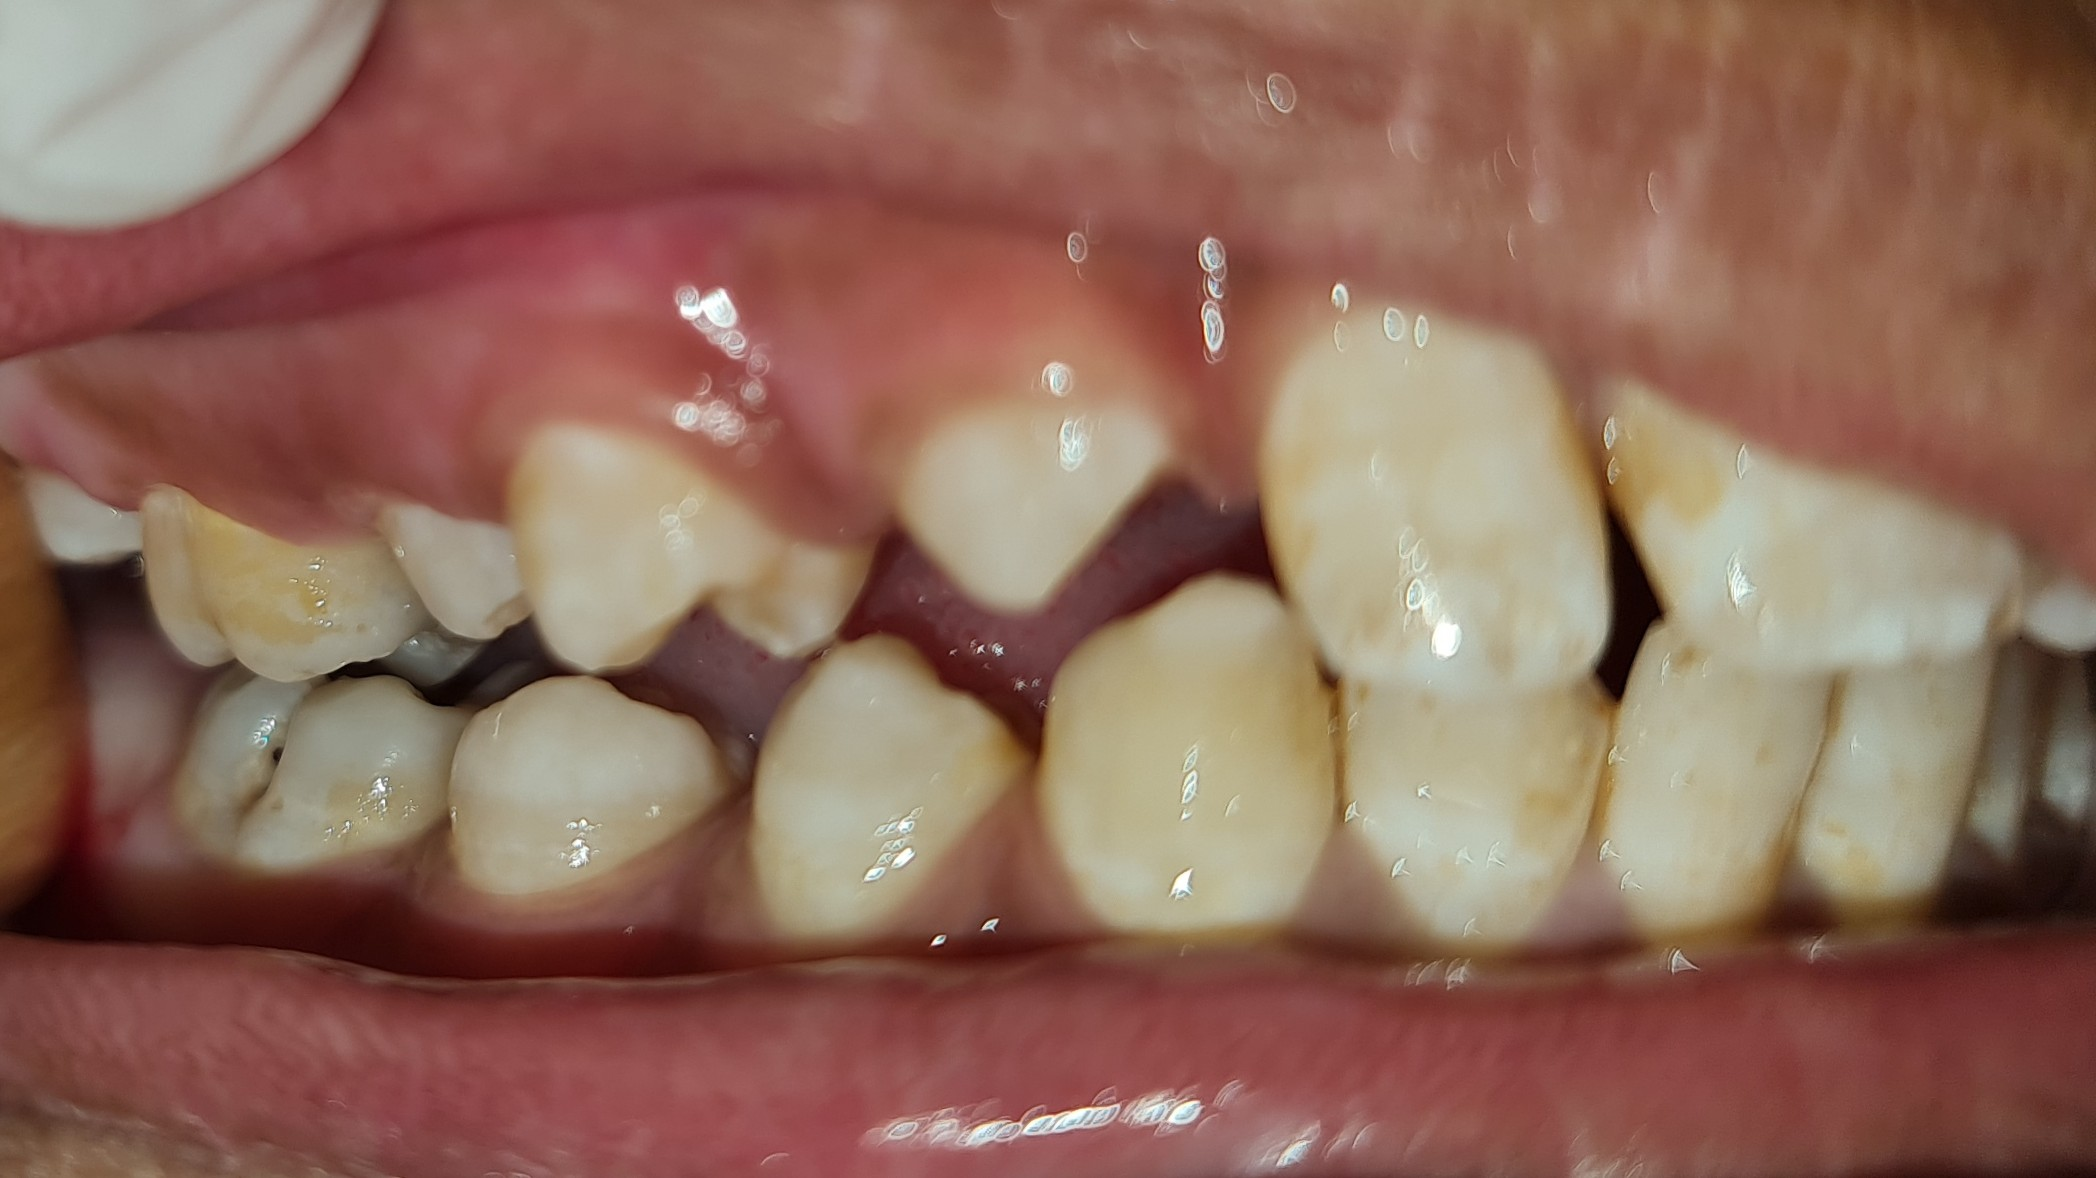D: (162, 664, 456, 872)
